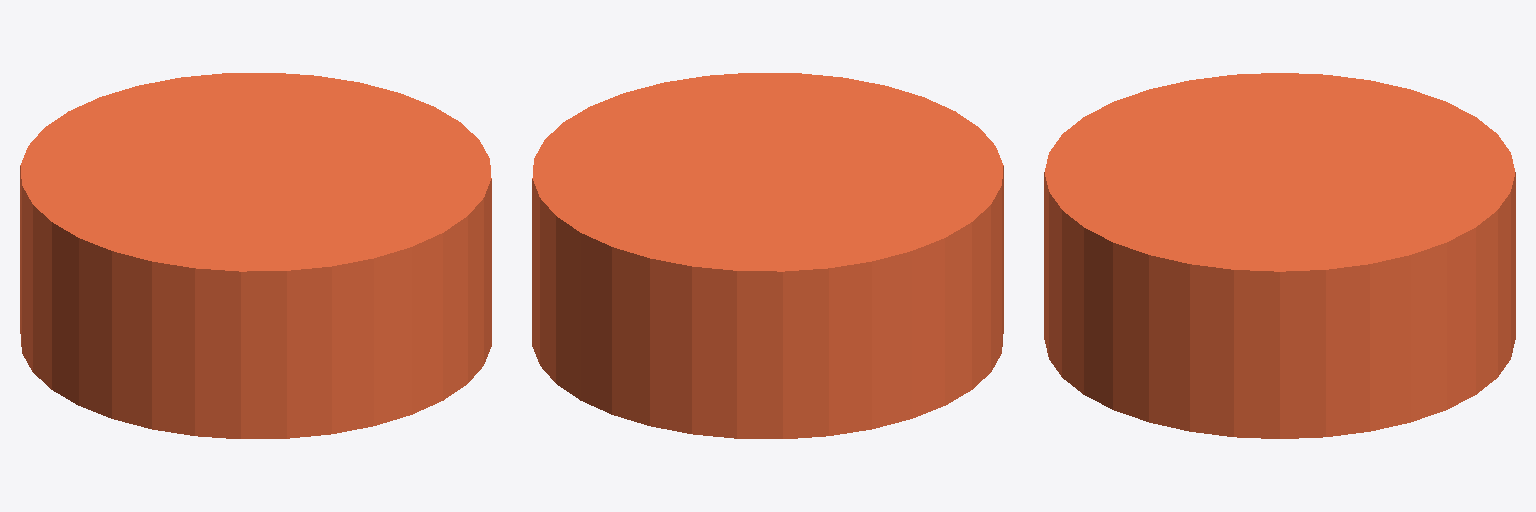
robot.urdf — myfirst:
<?xml version="1.0"?>
 <robot name="myfirst">
   <material name="red">
     <color rgba="1 0.498 0.3137 1"/>
   </material>
   <material name="green">
     <color rgba="0 1 0.498 1"/>
   </material>
   <link name="right_leg">
     <visual>
       <geometry>
         <cylinder length="0.03429" radius="0.043688"/>
       </geometry>
       <origin xyz="0 0 0" rpy="0 0 0"/>
       <material name="red"/>
     </visual>
     <collision>
       <geometry>
         <cylinder length="0.03429" radius="0.043688"/>
       </geometry>
       <origin xyz="0 0 0" rpy="0 0 0"/>
     </collision>
     <inertial>
       <mass value="1"/>
       <inertia ixx="1.0" ixy="0.0" ixz="0.0" iyy="1.0" iyz="0.0" izz="1.0"/>
     </inertial>
   </link>
 </robot>

--- Render facts (derived) ---
3 views of the same robot in one strip: view 1: azimuth 30°, elevation 25°; view 2: azimuth 150°, elevation 25°; view 3: azimuth 270°, elevation 25° (orthographic).
Robot: myfirst — 1 links, 0 joints (none); root link right_leg; default pose: all joints at 0.
Visible links, largest first — view 1: right_leg; view 2: right_leg; view 3: right_leg.
Link boxes in pixels (bbox=[...]): right_leg: bbox=[20, 73, 491, 438]; right_leg: bbox=[532, 73, 1003, 438]; right_leg: bbox=[1044, 73, 1515, 438].
Size in the robot's own frame: 0.0874 by 0.0874 by 0.0343 metres.
Geometry: primitives only (box / cylinder / sphere), no mesh files.